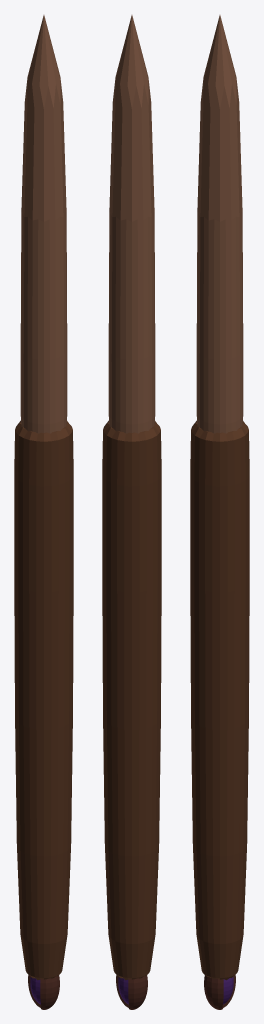
The model's file is Wand 7.glb.
3 renders of one model, left to right at view 1: azimuth 30°, elevation 25°; view 2: azimuth 210°, elevation 25°; view 3: azimuth 330°, elevation 25°, orthographic.
Visible parts, largest first — view 1: GeneratedWand; view 2: GeneratedWand; view 3: GeneratedWand.
Boxes of the visible parts, x1,y1,x2,y2 form: GeneratedWand: (14,15,73,1009); GeneratedWand: (102,15,161,1009); GeneratedWand: (190,15,249,1009).
Size of the model in its own units: 0.0273 by 0.5033 by 0.0273.
